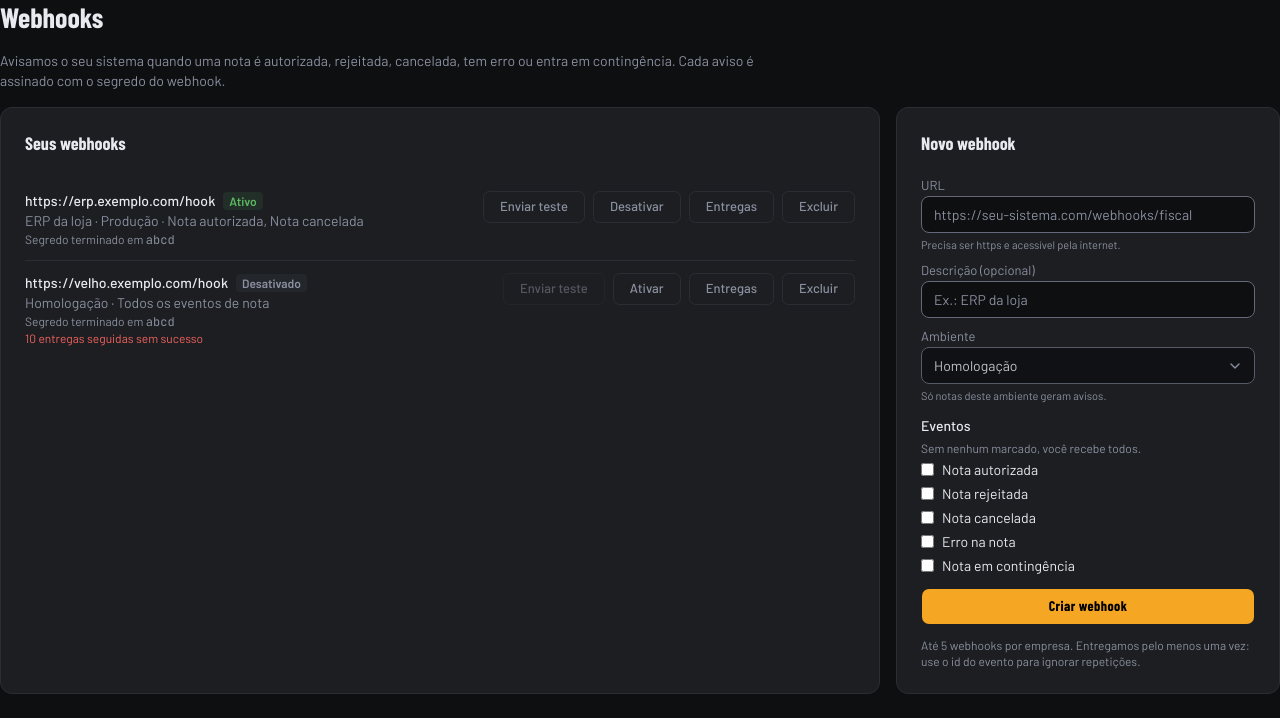
Test: webhooks › criar mostra o segredo uma vez, com aviso e Copiar; ao fechar ele some e não vai a storage
This screenshot has width=1280, height=718.
In the field labelled "URL": (1088, 214) [921, 196, 1255, 232], type "https://novo.exemplo.com/h"
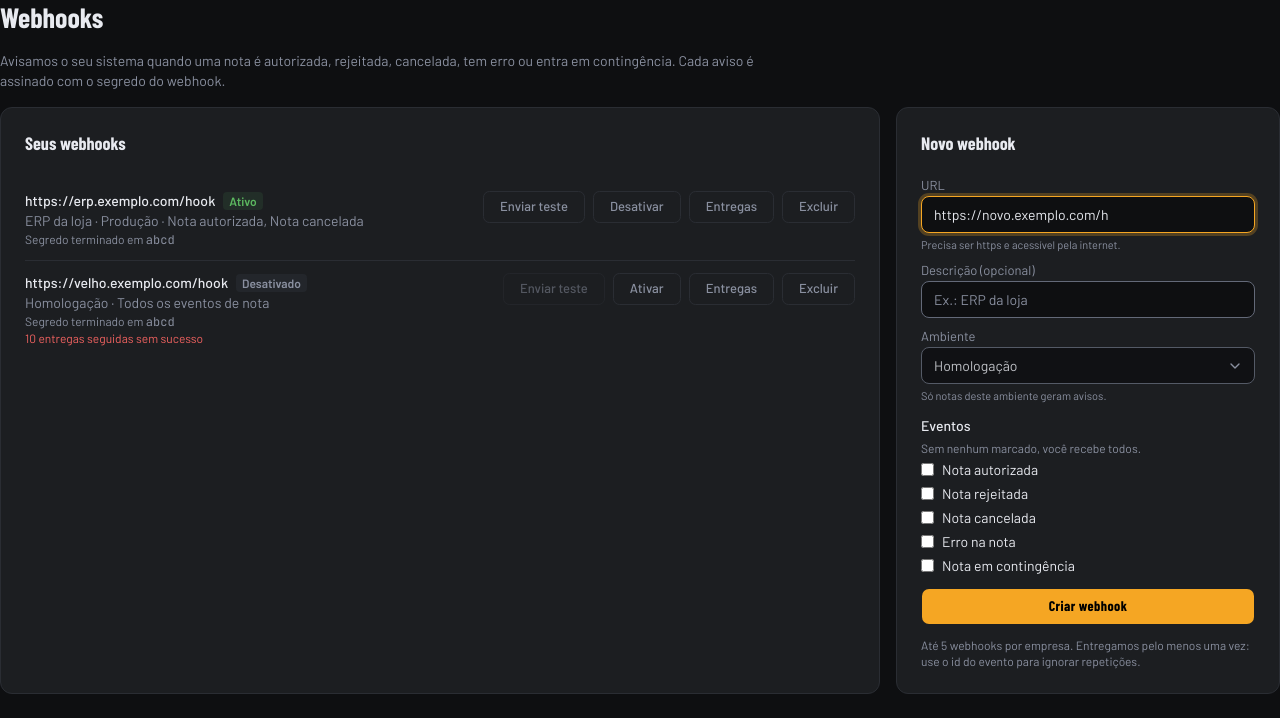
Select "Produção" in the dropdown labelled "Ambiente": (1088, 366) [921, 347, 1255, 384]
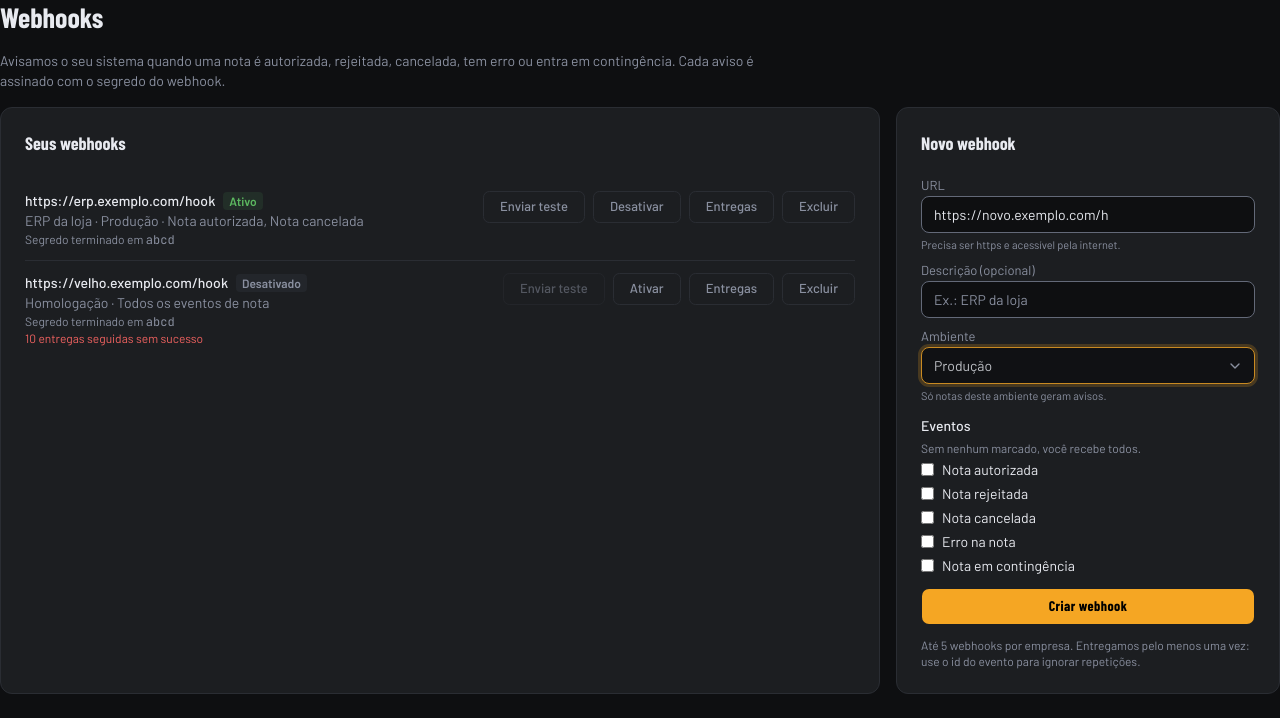
Click the checkbox labelled "Nota rejeitada": click(928, 494) [921, 487, 934, 500]
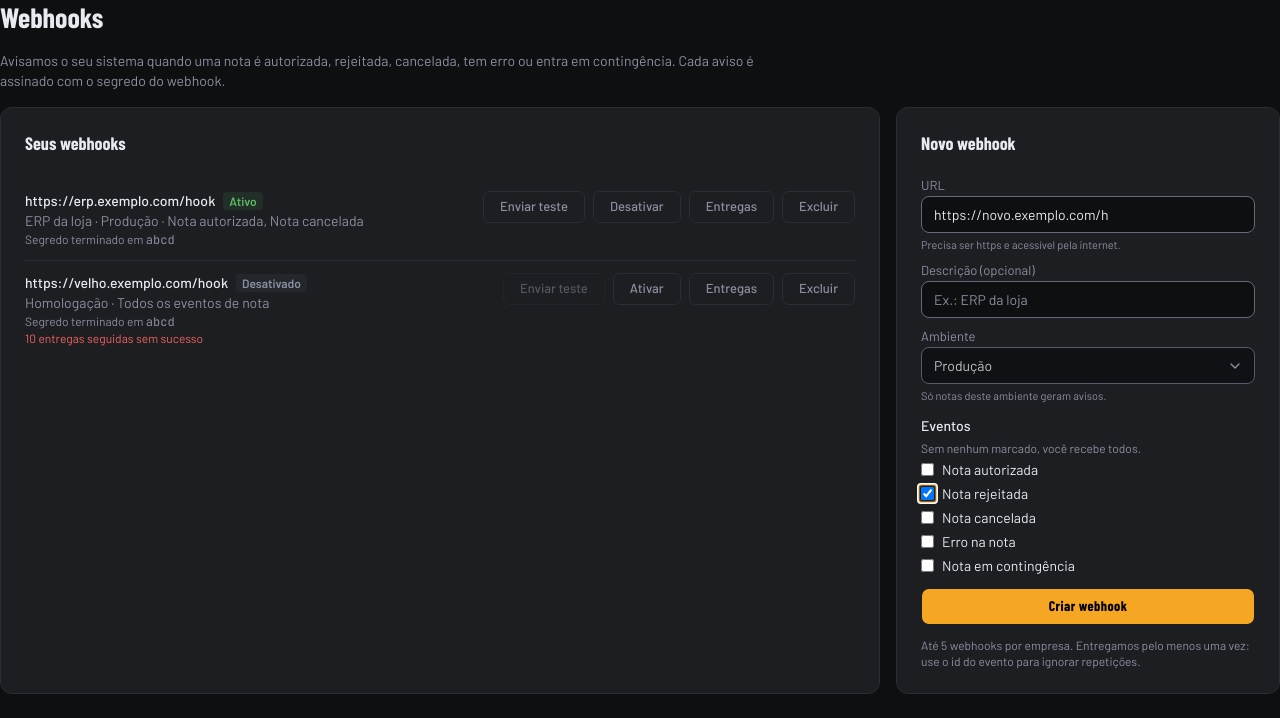
Click the button "Criar webhook": click(1088, 606) [921, 588, 1255, 625]
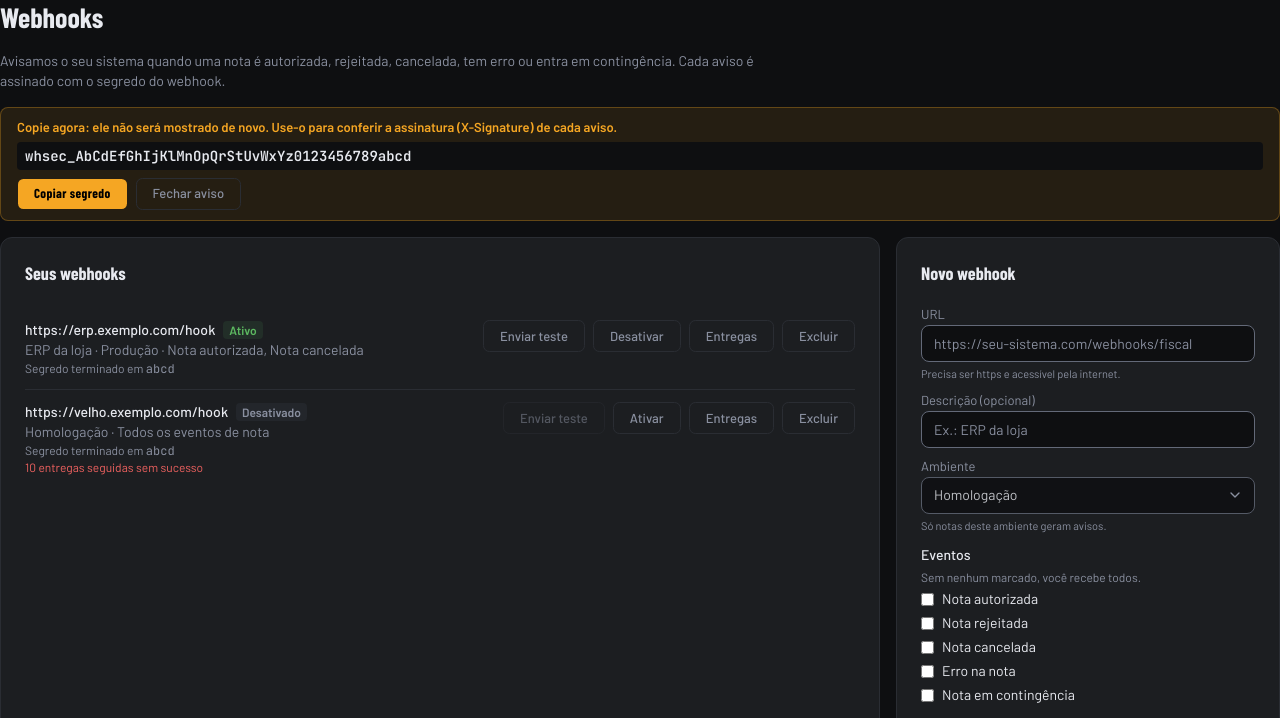
Expected: the text "whsec_AbCdEfGhIjKlMnOpQrStUvWxYz0123456789abcd" is shown, [17, 142, 1263, 170]
Expected: the text "Copie agora: ele não será mostrado de novo" is shown, [17, 119, 617, 135]
Click the button "Copiar segredo": click(72, 194) [17, 178, 128, 210]
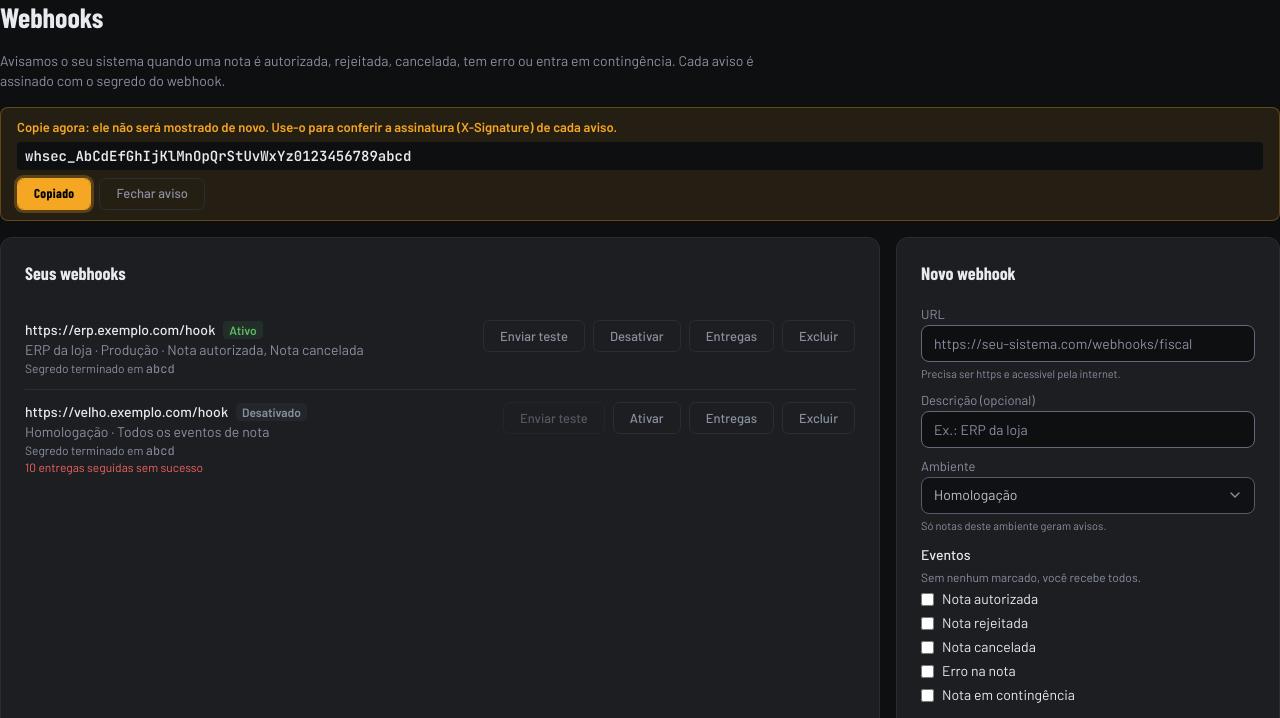
Click the button "Fechar aviso": click(152, 194) [100, 178, 205, 210]
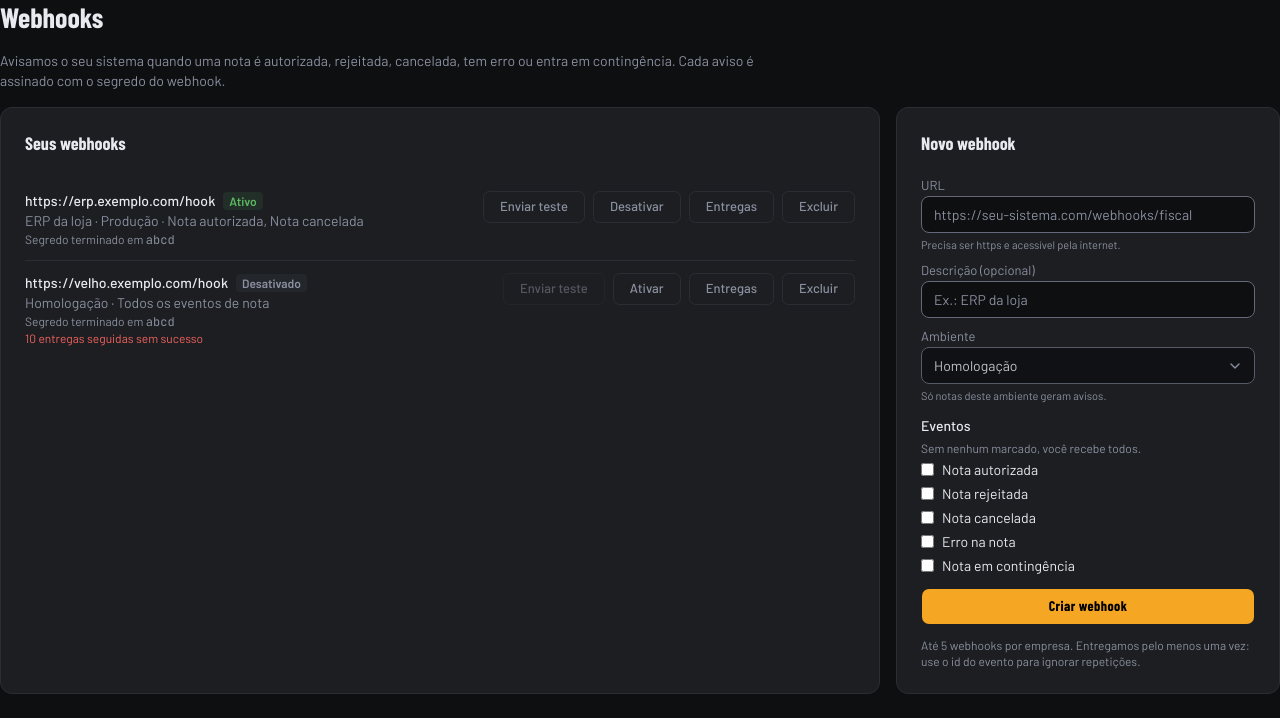
Expected: the text "whsec_AbCdEfGhIjKlMnOpQrStUvWxYz0123456789abcd" is gone
